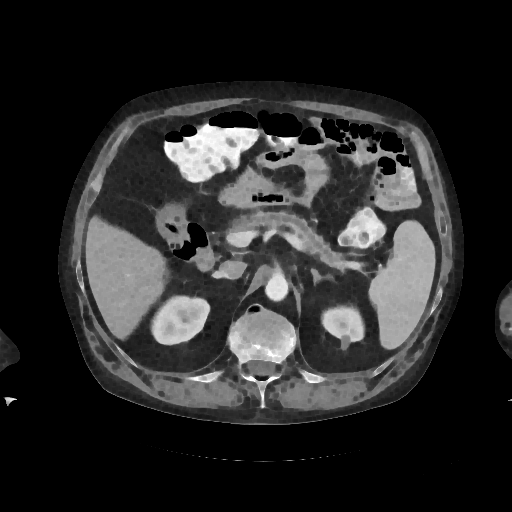Lesion: (338, 331, 352, 356)
